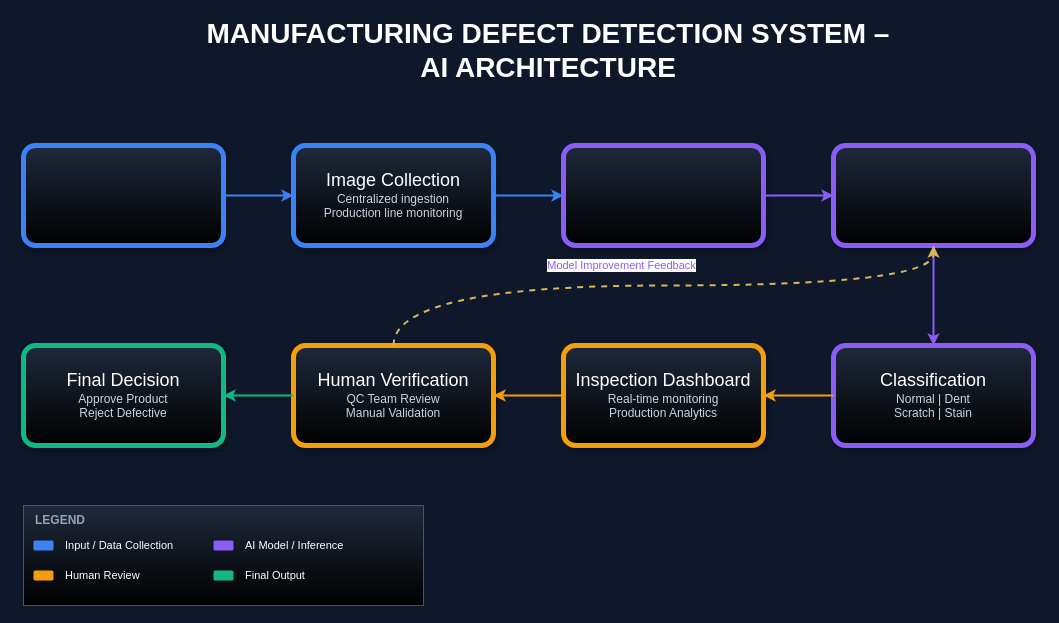
Image size: 1059x623. Some labels were removed from this diagram. Each missing label, with the centre of its shape:
"CNN Model Deep Learning Analysis Feature Extraction" belongs at pixel 934 196.
"Preprocessing Resize & Normalize Data Augmentation" belongs at pixel 664 196.
"Product Images Factory cameras capture High-res visual inspection" belongs at pixel 124 196.
